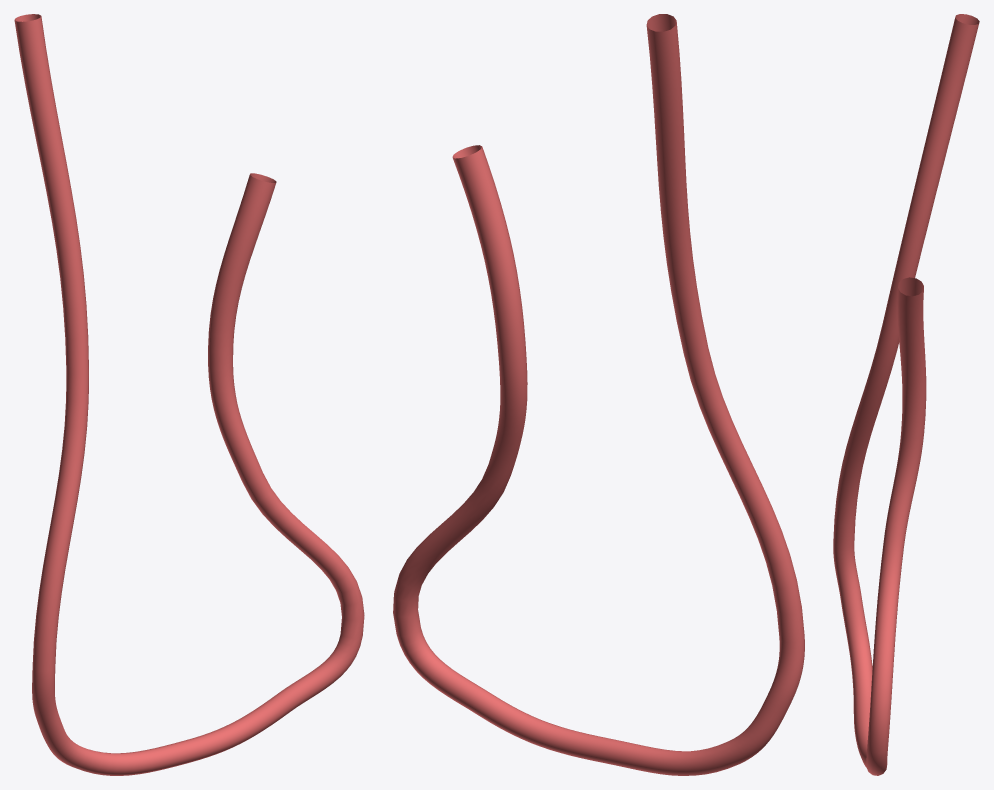
The model's file is Superficial_palmar_arch.r_BezierCurve.210.glb.
The picture shows the model from 3 angles, left to right: view 1: azimuth 30°, elevation 25°; view 2: azimuth 150°, elevation 25°; view 3: azimuth 270°, elevation 25°; orthographic projection. The views are drawn at different scales.
Visible parts, largest first — view 1: Superficial_palmar_arch.r_BezierCurve.210; view 2: Superficial_palmar_arch.r_BezierCurve.210; view 3: Superficial_palmar_arch.r_BezierCurve.210.
Part boxes in pixels (<box>): Superficial_palmar_arch.r_BezierCurve.210: <box>14,14,364,775</box>; Superficial_palmar_arch.r_BezierCurve.210: <box>393,14,804,775</box>; Superficial_palmar_arch.r_BezierCurve.210: <box>833,14,979,775</box>.
Size of the model in its own units: 0.0352 by 0.0708 by 0.0138.
